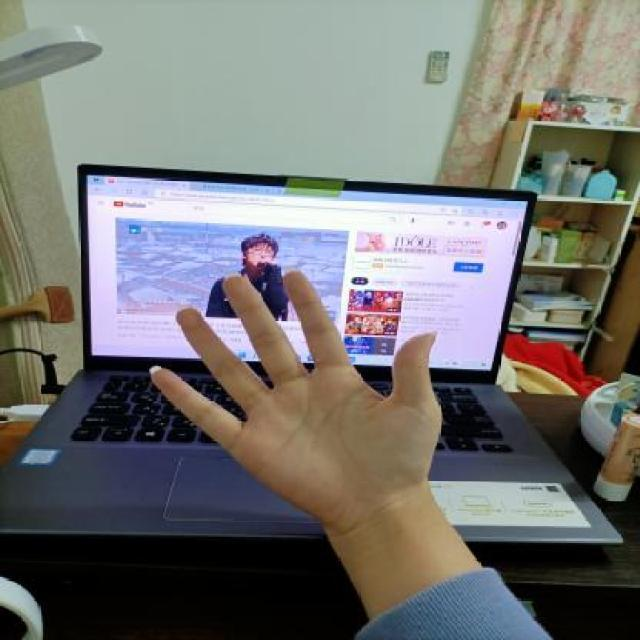bare_hand: (130, 259, 462, 541)
